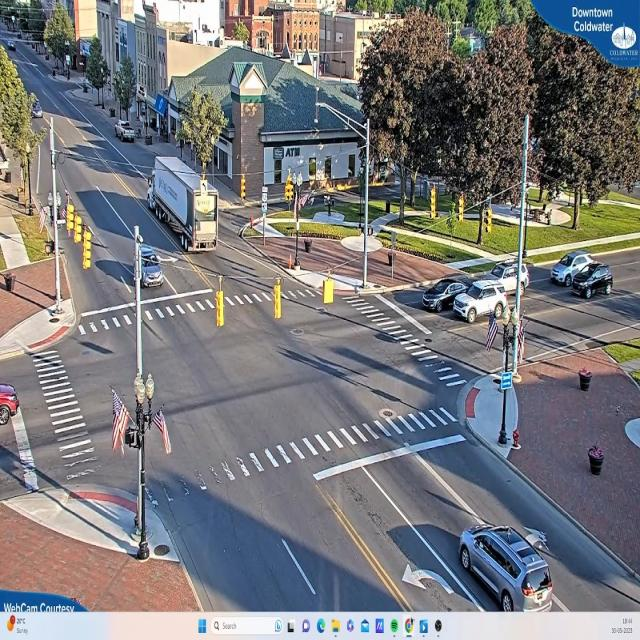car: (456, 522, 556, 610), (452, 285, 512, 325), (422, 278, 477, 312), (478, 264, 532, 296), (572, 264, 615, 300), (551, 252, 595, 286), (1, 384, 22, 424), (117, 121, 137, 144)
truck: (146, 156, 225, 248)
